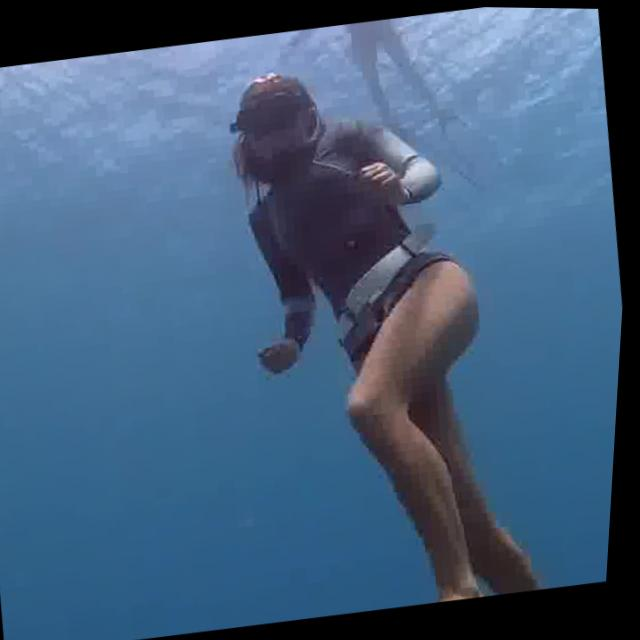human: (175, 20, 630, 630), (264, 6, 486, 170)
